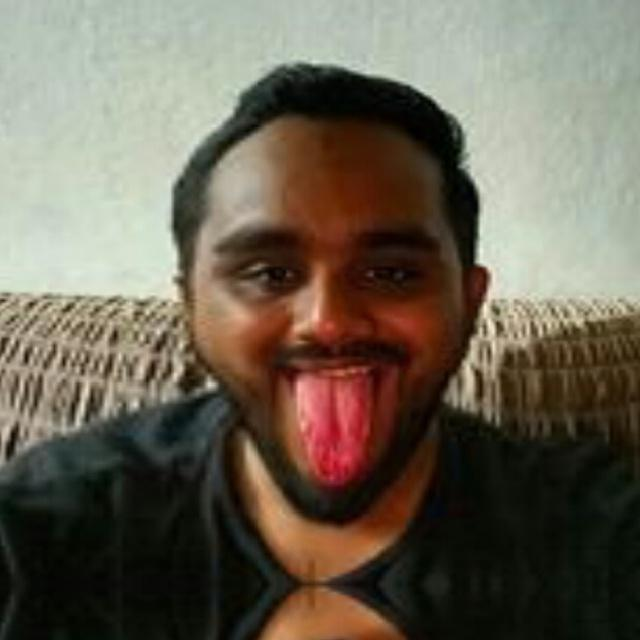Happy: (136, 40, 515, 541)
